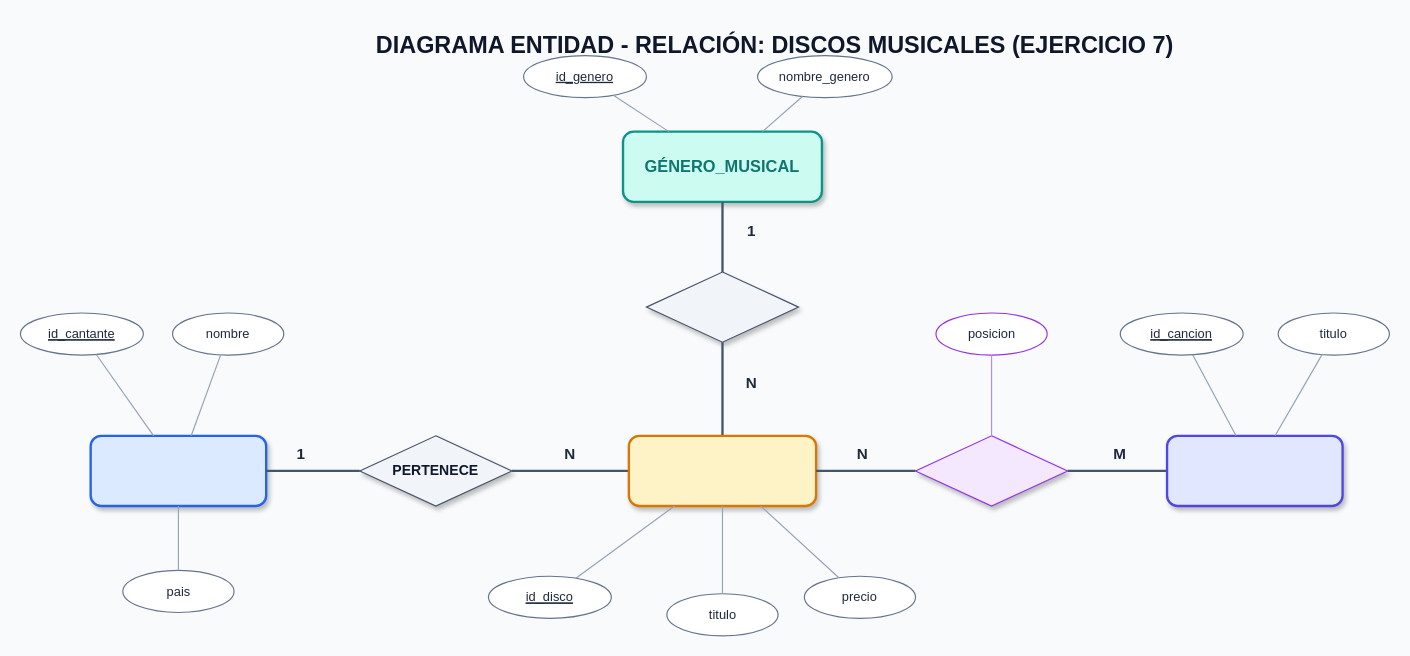
Image size: 1410x656. Some labels were removed from this diagram. The shapes that lost their labels are listed below. From the top down, each one's centre as x and y in pixels, then its label:
point 723,308: CLASIFICA
point 179,472: CANTANTE
point 723,472: DISCO
point 992,472: CONTIENE
point 1255,472: CANCIÓN
